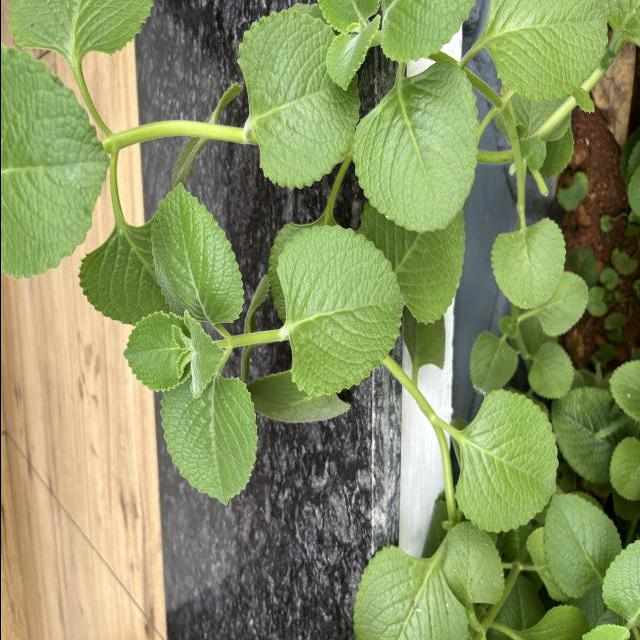Plectranthus barbatus: (274, 222, 406, 400), (234, 7, 360, 188), (352, 58, 478, 234), (451, 387, 559, 534), (148, 180, 245, 324), (156, 376, 258, 508), (482, 0, 608, 102), (350, 544, 468, 640), (542, 491, 622, 598), (489, 216, 566, 312), (550, 386, 614, 485), (438, 520, 506, 606), (120, 309, 187, 393), (324, 15, 379, 94), (534, 268, 588, 338), (467, 329, 518, 397), (526, 342, 574, 399), (607, 436, 640, 502)
